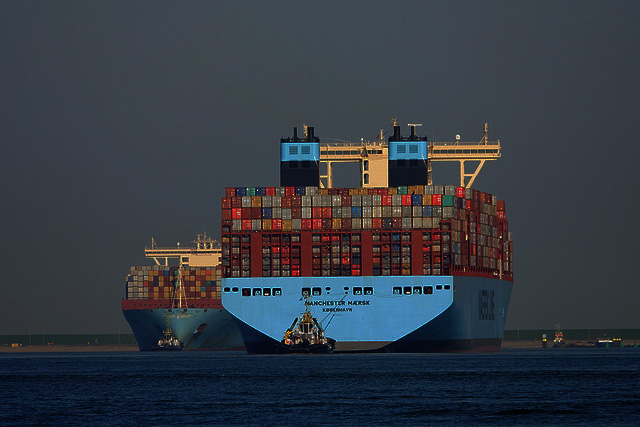container_ship: (224, 120, 514, 350), (121, 235, 222, 350)
tug_boat: (280, 295, 334, 354), (149, 313, 180, 352)
